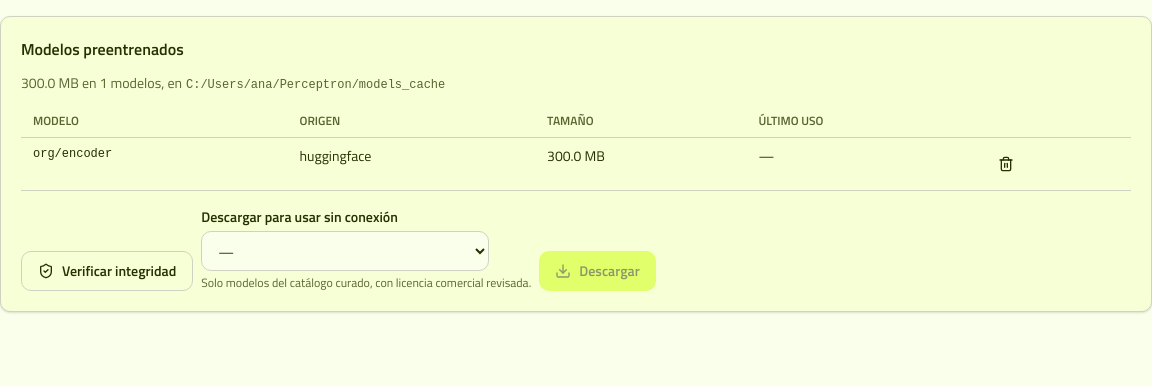
Test case: caché de modelos preentrenados (RF-TRN-11) › lista, verifica, borra y predescarga
Check: the text "300.0 MB" is shown, box 535,138 -> 746,190
Click the button "Verificar integridad".
click(107, 271)  # box 21,251 -> 193,291
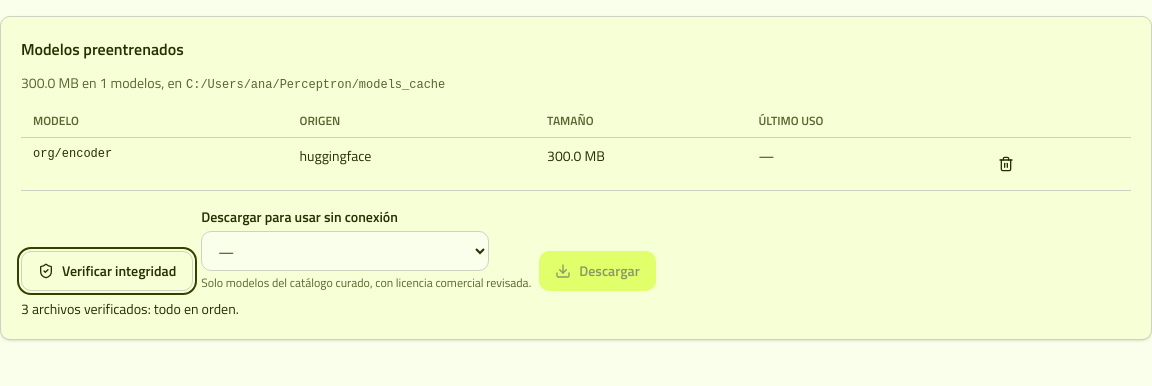
Check: the text "3 archivos verificados: todo en orden." is shown, box 21,298 -> 239,319
Select "resnet18" in the dropdown labelled "Descargar para usar sin conexión" at (345, 251), box 201,231 -> 489,271
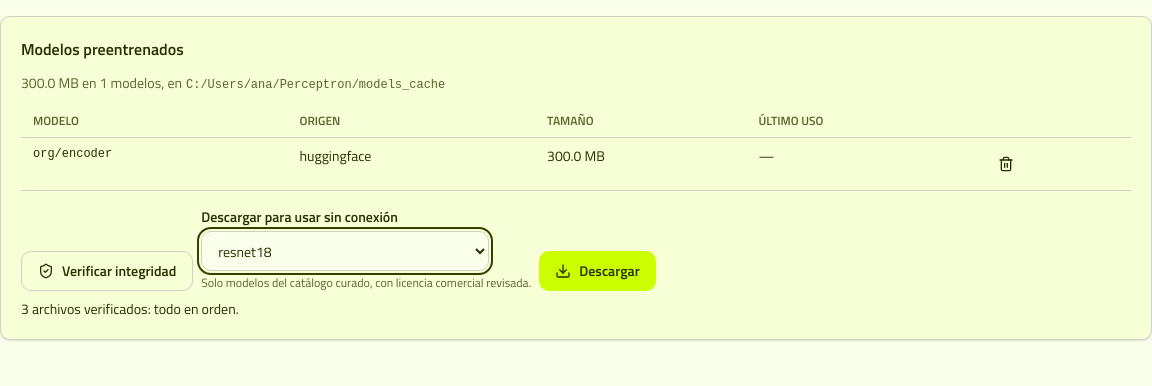
Click the button "Descargar".
click(597, 271)  # box 539,251 -> 656,291
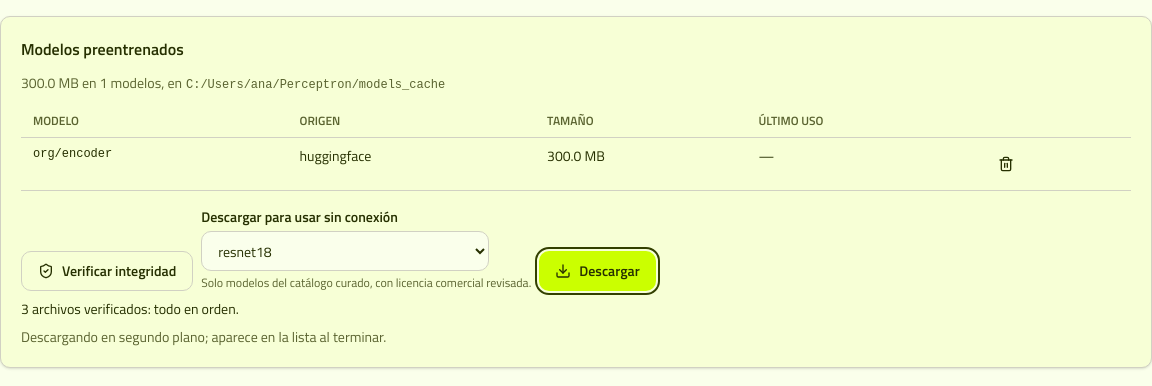
Click the button named "Borrar org/encoder de la caché".
click(1006, 164)  # box 988,146 -> 1024,182
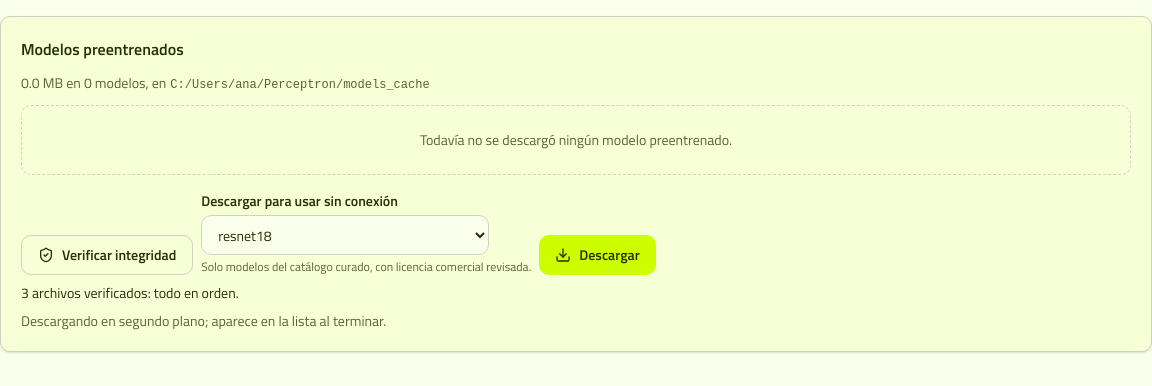
Check: the text "Todavía no se descargó ningún modelo preentrenado." is shown, box 21,105 -> 1131,175
